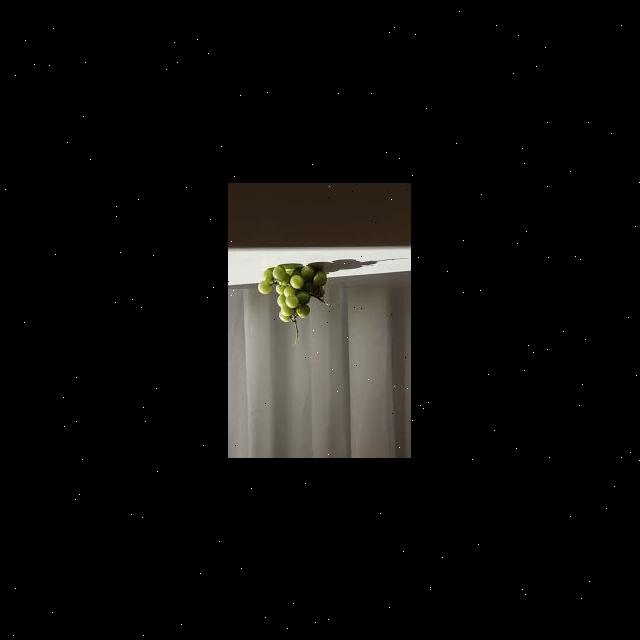grape: (258, 262, 332, 324)
